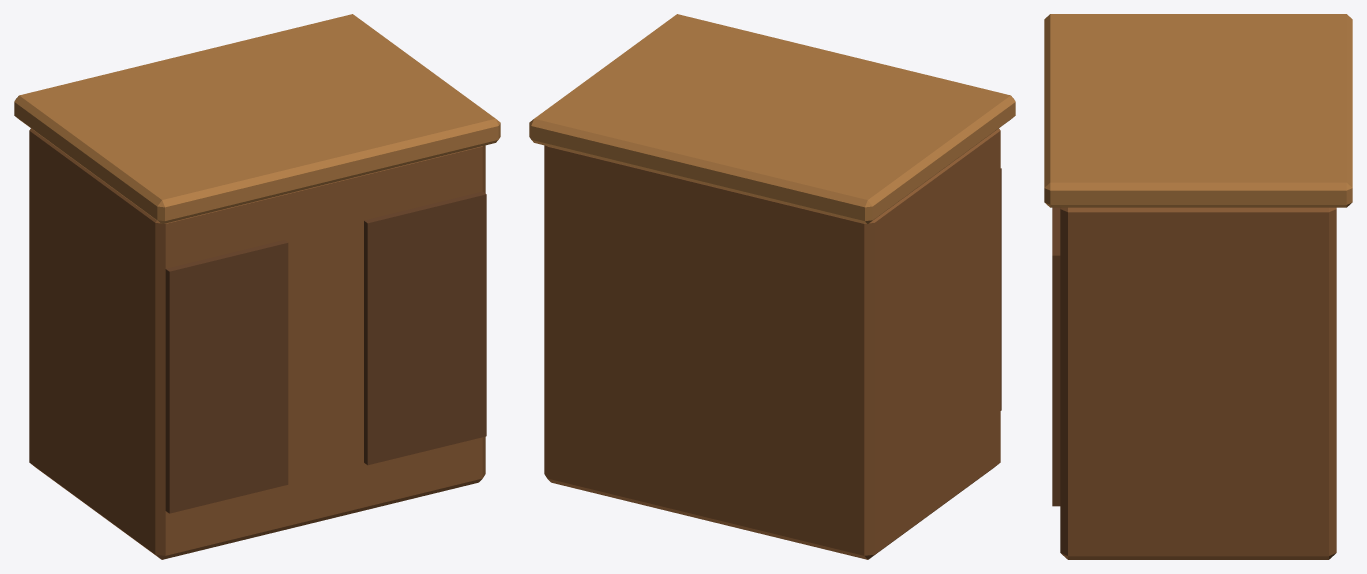
Rendered from furn_counter.glb.
3 renders of one model, left to right at view 1: azimuth 30°, elevation 25°; view 2: azimuth 150°, elevation 25°; view 3: azimuth 270°, elevation 25°, orthographic. The views are drawn at different scales.
Visible parts, largest first — view 1: body, top, panel, panel.001; view 2: body, top; view 3: body, top, panel.001.
Boxes of the visible parts, box(x1,y1,x2,y2) form: body: box(29, 128, 485, 559); top: box(14, 14, 500, 224); panel: box(165, 240, 288, 513); panel.001: box(364, 191, 486, 465); body: box(544, 128, 1000, 559); top: box(529, 14, 1015, 224); body: box(1060, 207, 1336, 559); top: box(1044, 14, 1352, 207); panel.001: box(1052, 207, 1060, 506).
Bounding box in the file's own units: 1.04 × 1.06 × 0.78.
